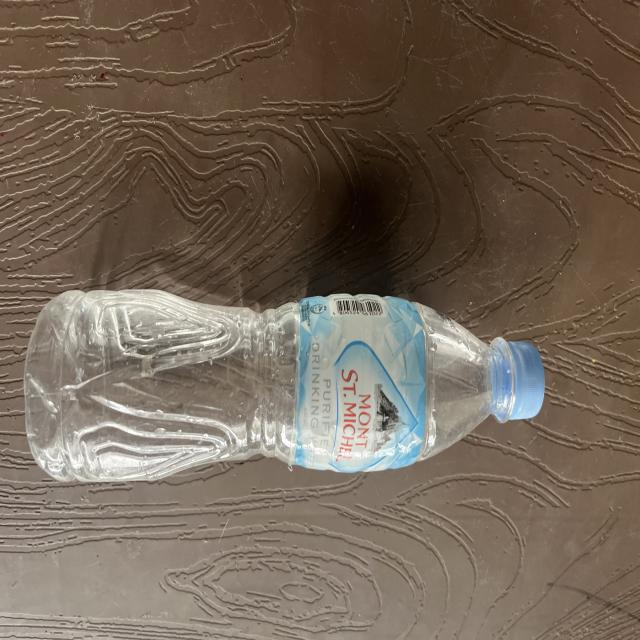REJECT: (23, 279, 510, 486)
